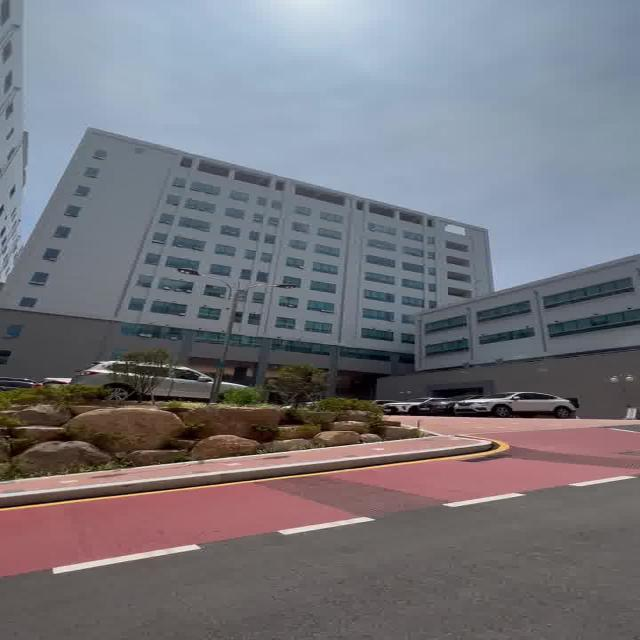building: (48, 133, 565, 388)
